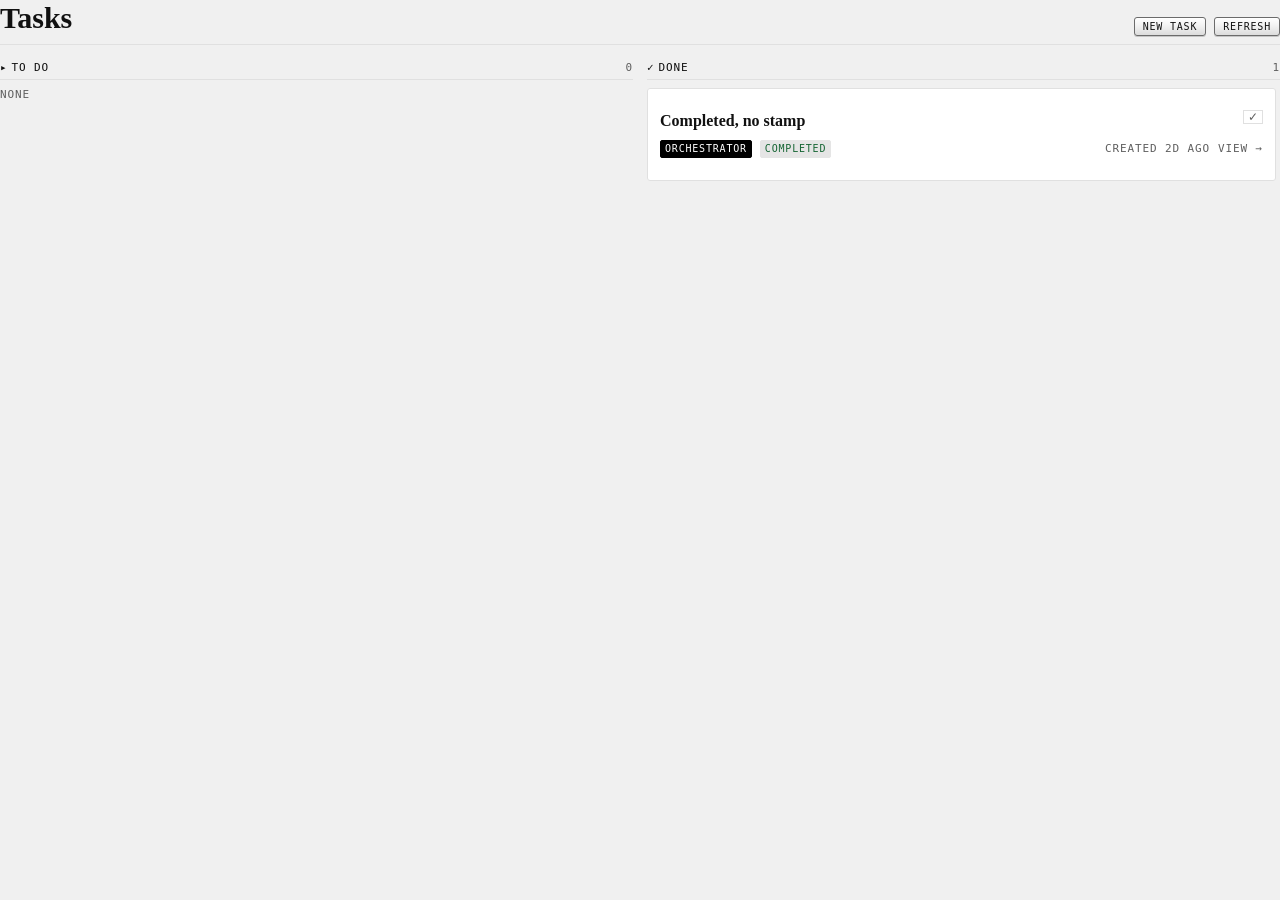
Scenario: run truth (B4) › says a completed task's missing completion stamp is not recorded — never a fake date
Click the button with aria-label "Open task: Completed, no stamp". click: point(733, 121)
box: x1=647 y1=88 x2=1276 y2=181
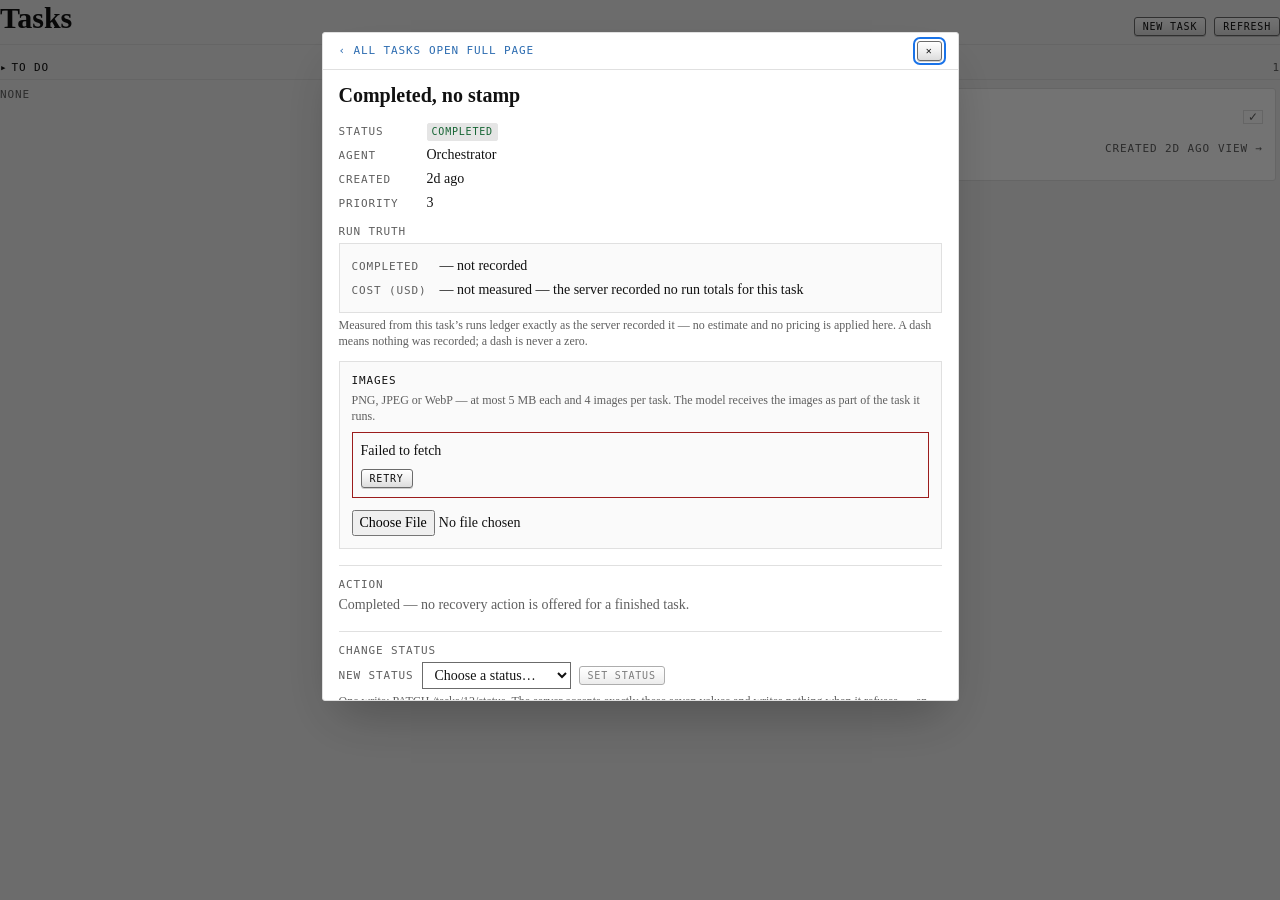
Expected: the text "— not recorded" is shown, x1=440 y1=258 x2=527 y2=273
